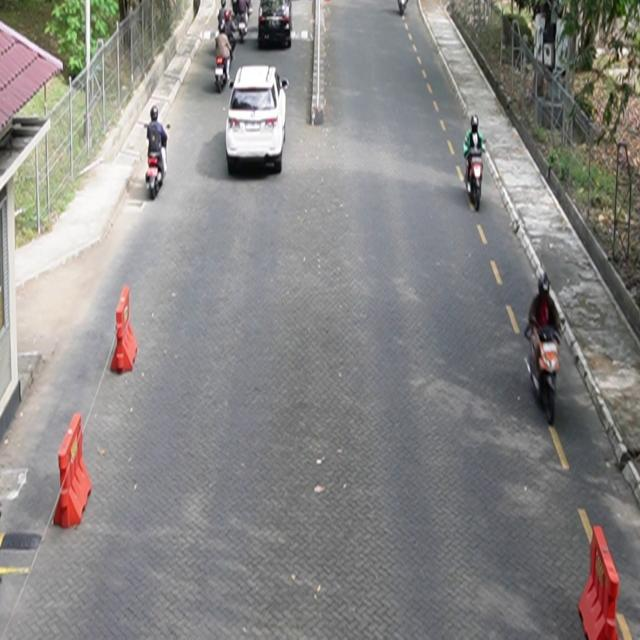car: (226, 65, 290, 175), (259, 1, 293, 50)
